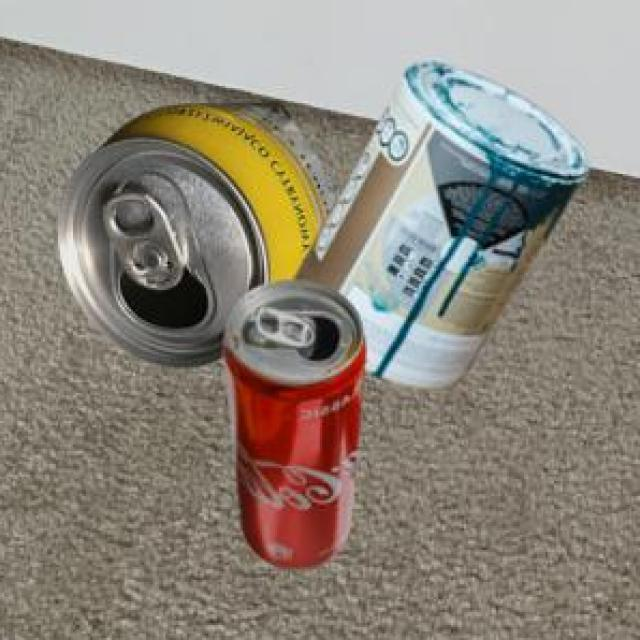logam: (297, 59, 592, 386), (61, 100, 345, 364), (227, 276, 368, 566)
